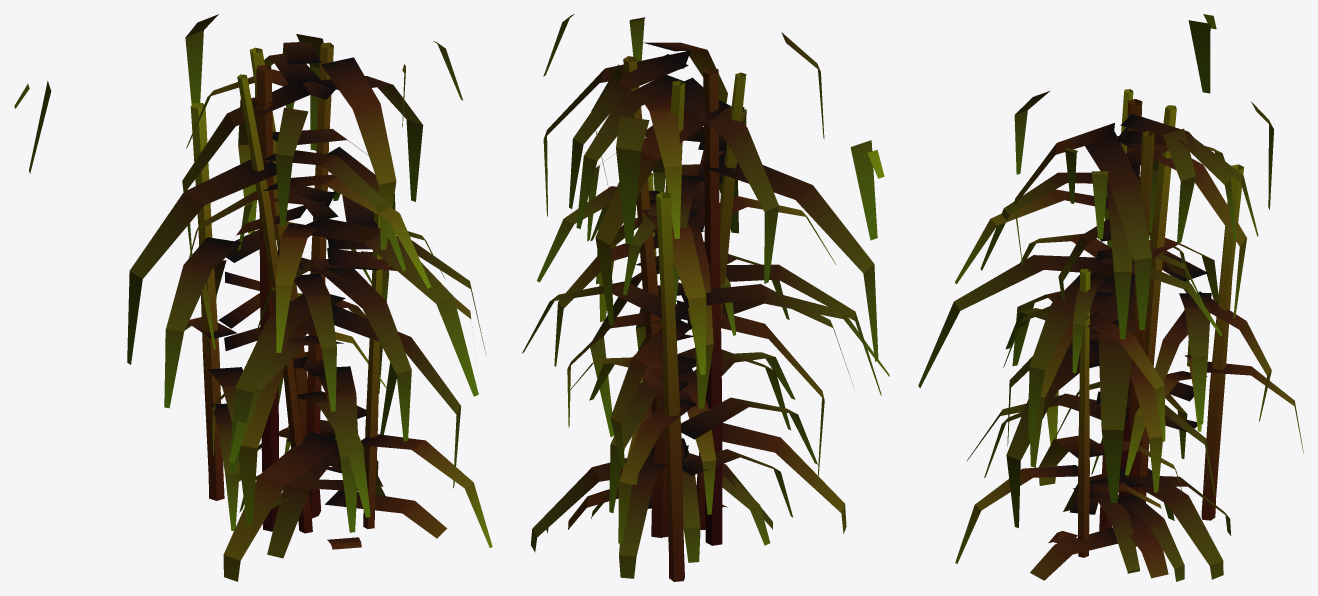
File: bamboo_b_stem.glb
The picture shows the model from 3 angles, left to right: view 1: azimuth 30°, elevation 25°; view 2: azimuth 150°, elevation 25°; view 3: azimuth 270°, elevation 25°; orthographic projection. The views are drawn at different scales.
Visible parts, largest first — view 1: bamboo_b_mid; view 2: bamboo_b_mid; view 3: bamboo_b_mid.
Part boxes in pixels (x1,y1,x2,y2): bamboo_b_mid: [14, 14, 492, 581]; bamboo_b_mid: [522, 14, 889, 581]; bamboo_b_mid: [918, 14, 1303, 581].
Size of the model in its own units: 1.74 by 1.96 by 1.64.
Materials: 1 (1 with a texture image).
